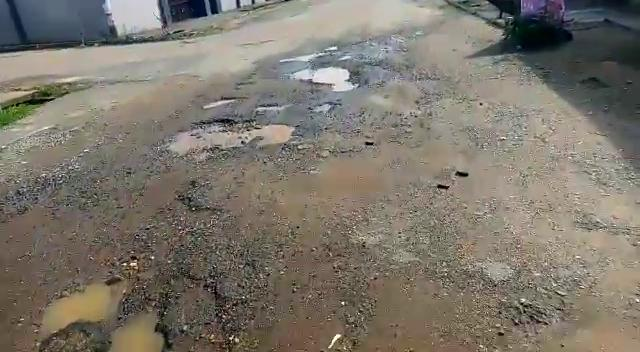pothole: (39, 274, 171, 352), (156, 118, 295, 159), (287, 64, 359, 88), (200, 94, 246, 109), (255, 102, 287, 110)
